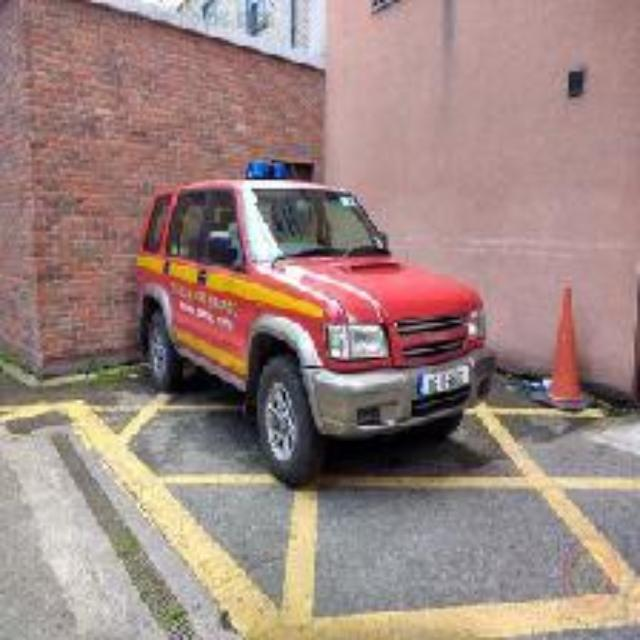emergency: (141, 168, 481, 432)
